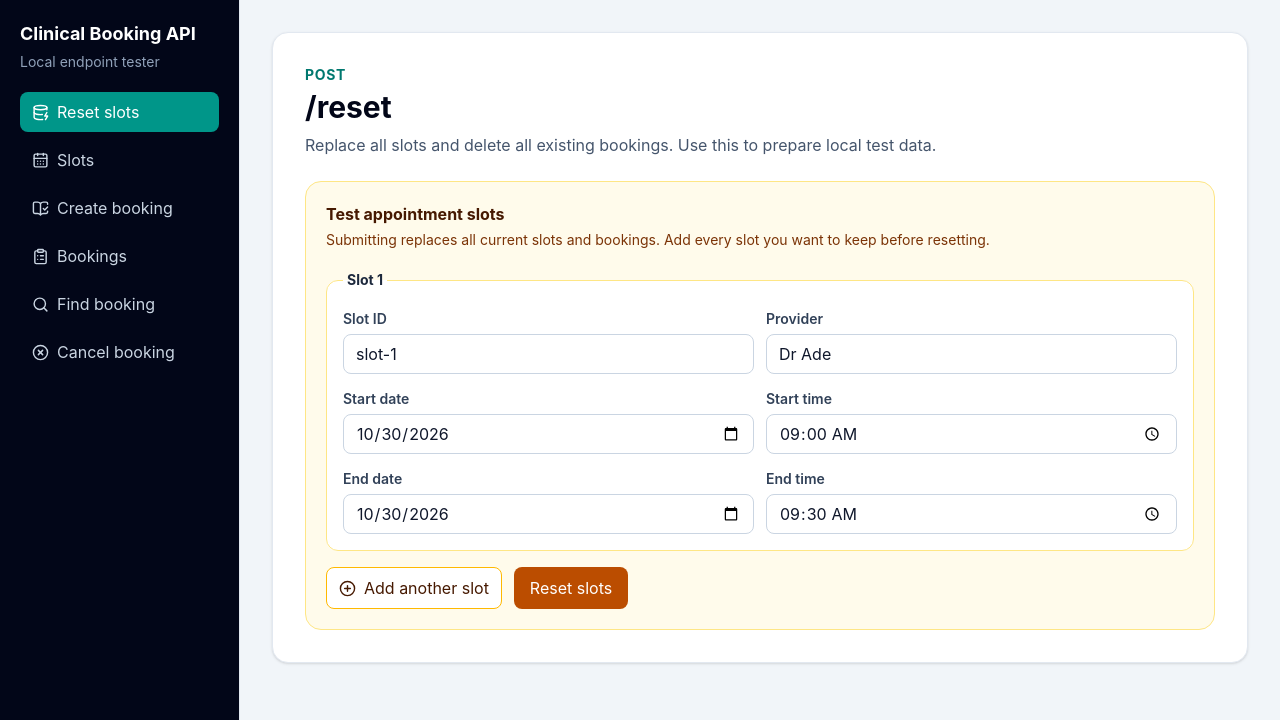
Test: Clinical Booking API tester › cancels selected booking table rows
The image size is (1280, 720).
Click the button "Bookings": click(120, 256) [20,236,219,276]
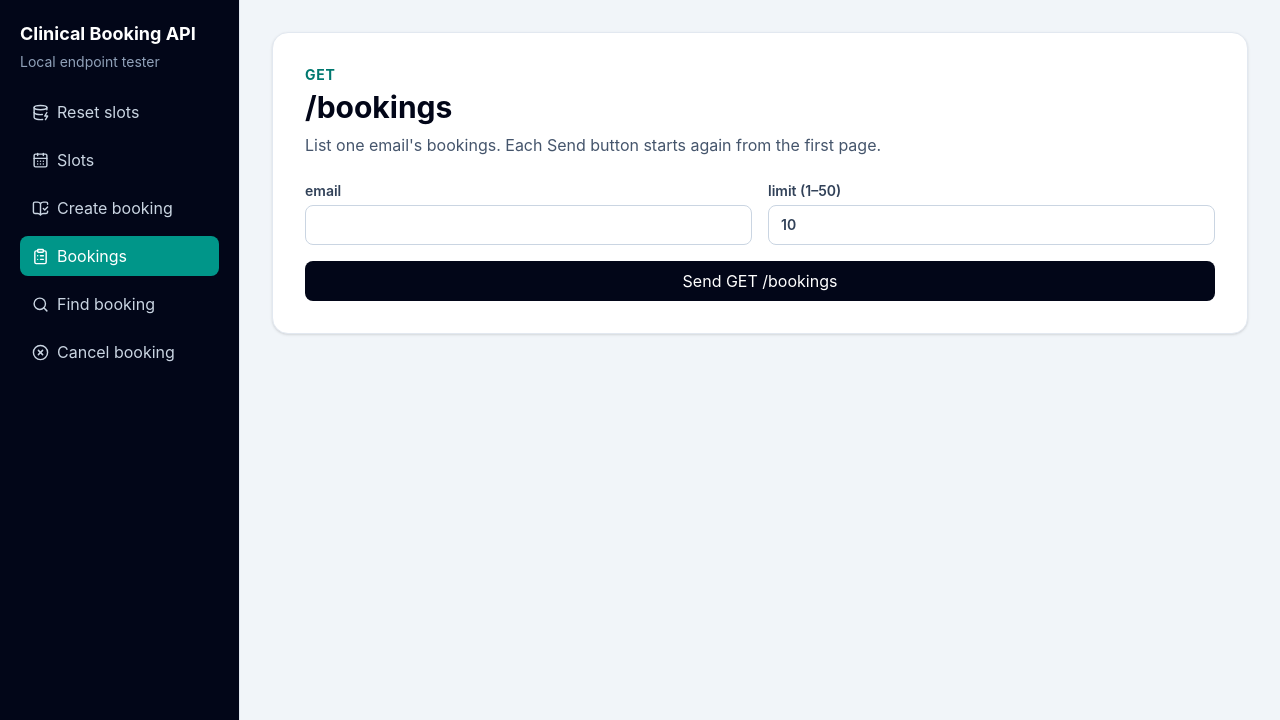
In the field labelled "email": (528, 225) [305,205,752,245], type "ada@example.com"
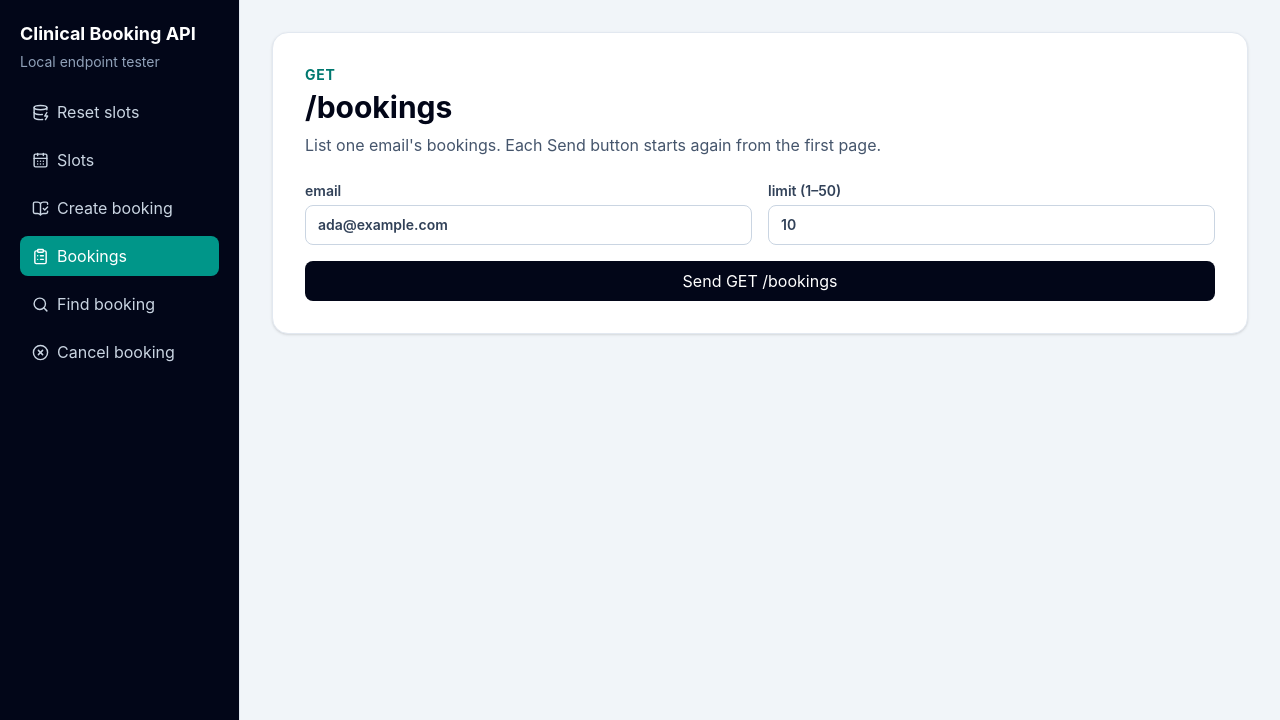
Click the button "Send GET /bookings": click(760, 281) [305,261,1215,301]
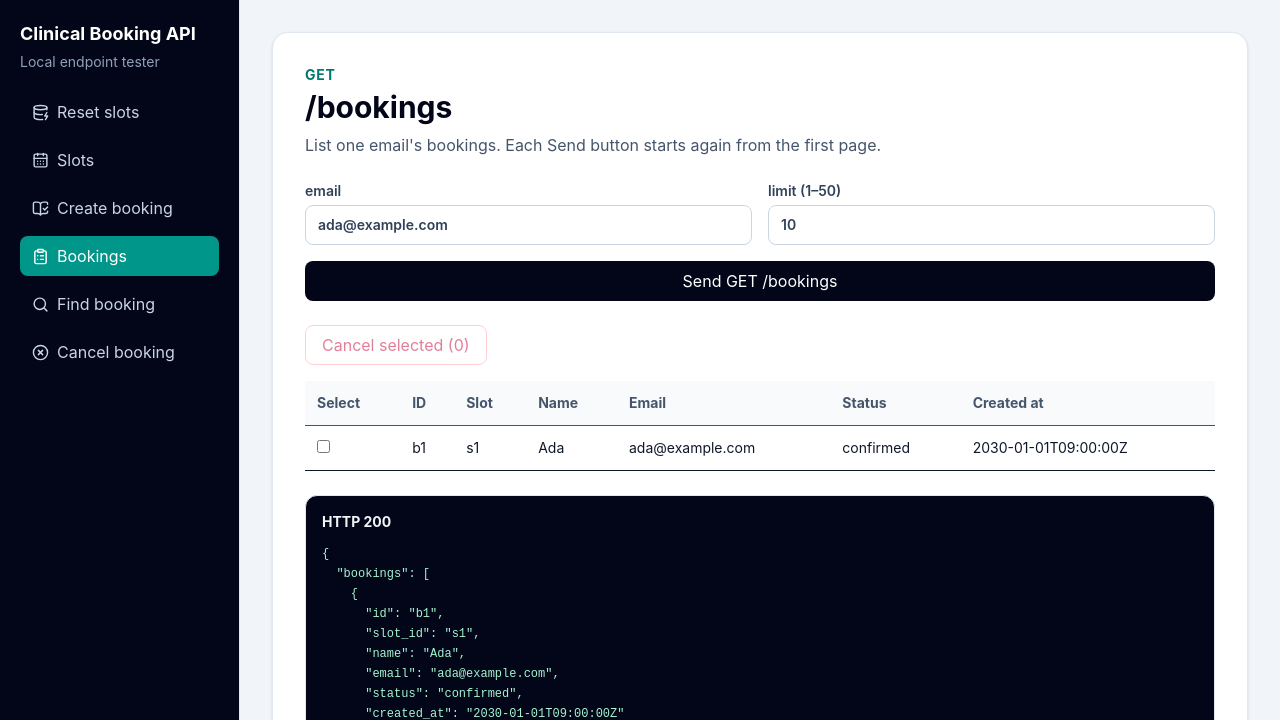
Expected: the text "b1" is shown, [400,426,454,470]
Click the checkbox named "Select b1": click(324, 446) [317,440,330,453]
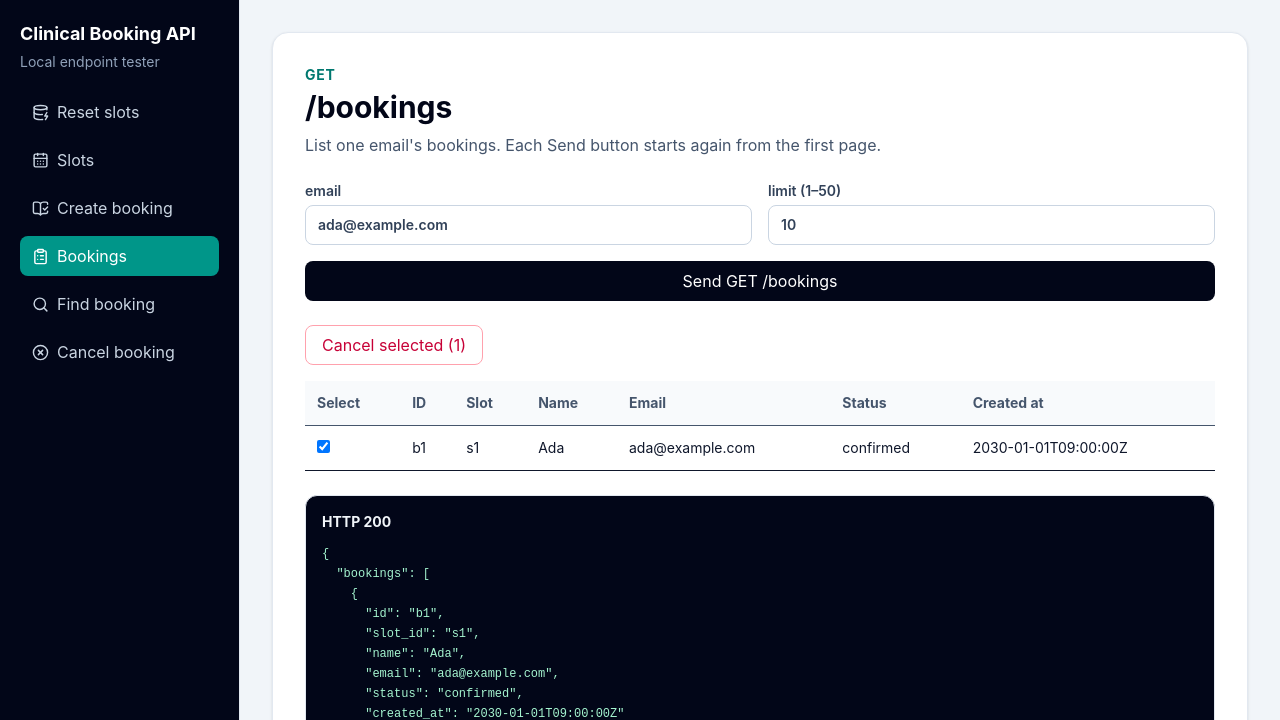
Click the button "Cancel selected (1)": click(394, 345) [305,325,483,365]
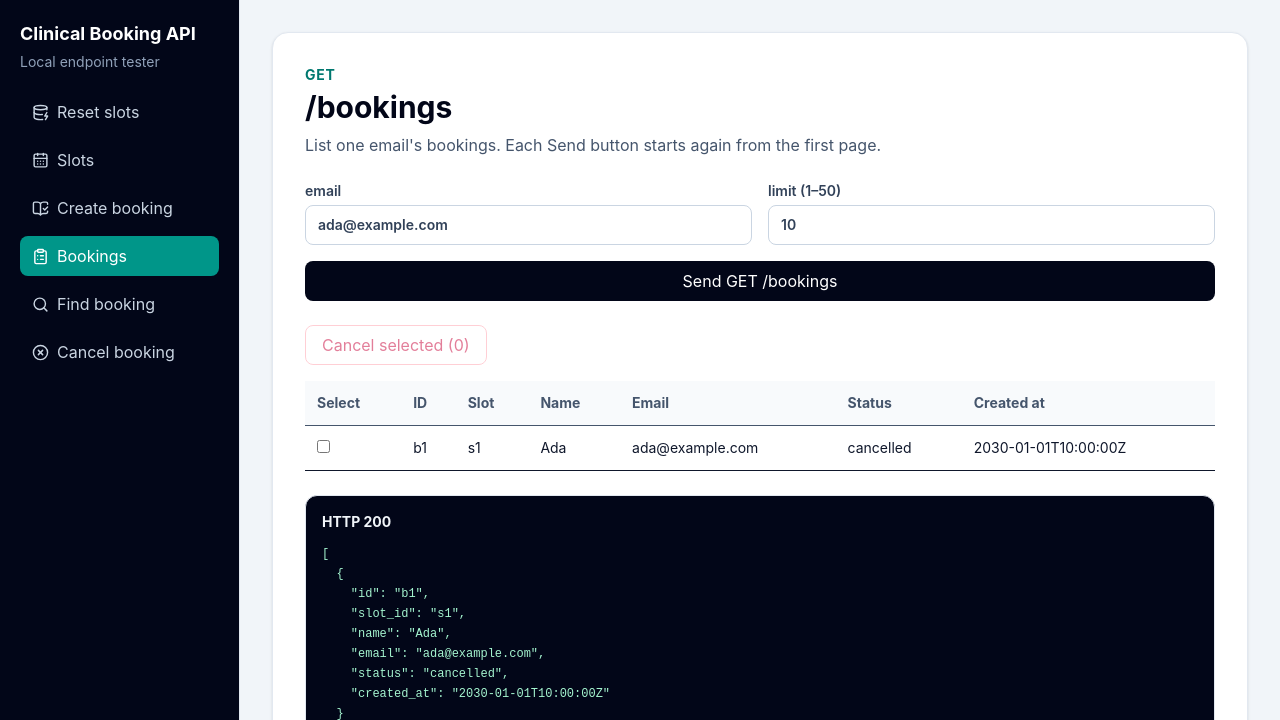
Expected: the text "cancelled" is shown, [836,426,962,470]
